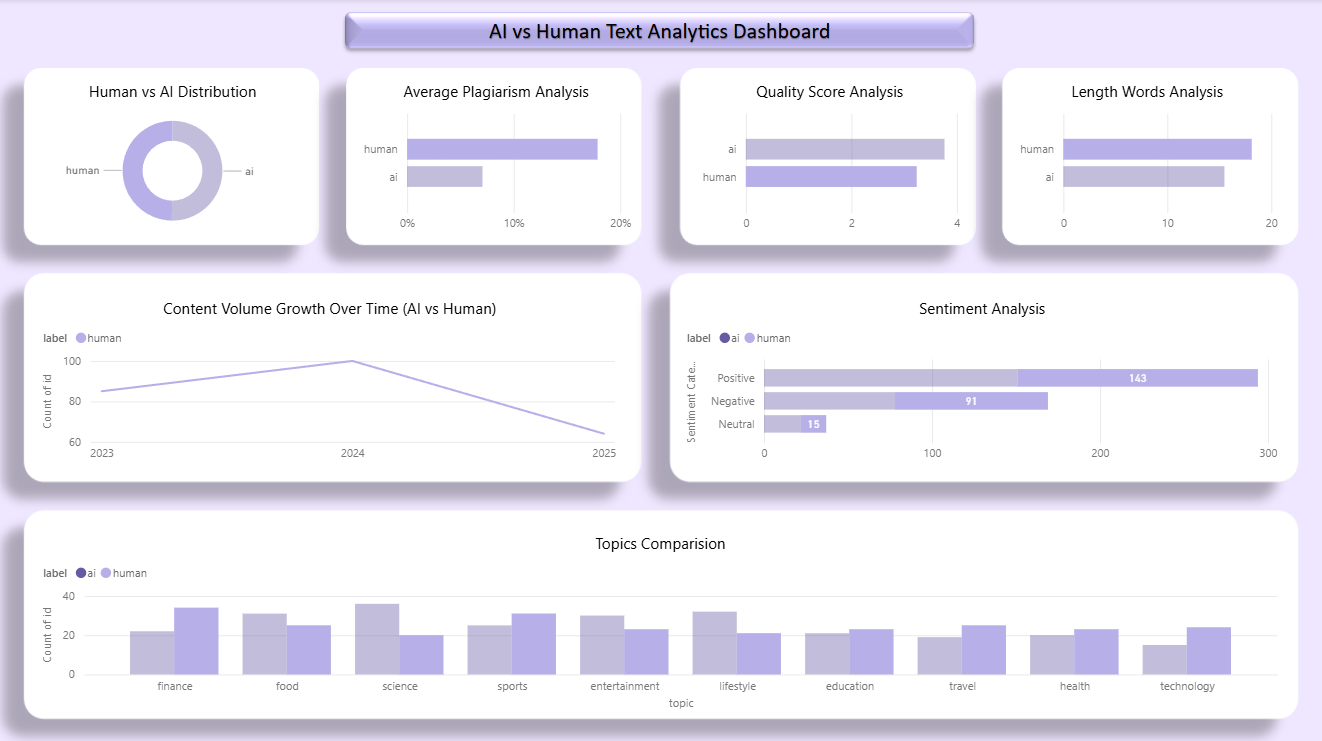

Layout of this report page (visuals, bound fields, positions):
{"tool":"powerbi","page":{"name":"Page 1","canvas":[1280,720],"ordinal":0},"visuals":[{"type":"donutChart","title":"Human vs AI Distribution ","fields":{"Category":["ai_vs_human_dataset_medium.label"],"Y":["CountNonNull(ai_vs_human_dataset_medium.id)"]},"box":[38.3,78.3,260,155],"z":0},{"type":"clusteredBarChart","title":"Quality Score Analysis","fields":{"Category":["ai_vs_human_dataset_medium.label"],"Y":["Avg(ai_vs_human_dataset_medium.quality_score)"]},"box":[671.7,78.3,261.7,155],"z":3},{"type":"barChart","title":"Average Plagiarism Analysis","fields":{"Category":["ai_vs_human_dataset_medium.label"],"Y":["Avg(ai_vs_human_dataset_medium.plagiarism_score)"]},"box":[345,78.3,271.7,155],"z":5},{"type":"clusteredColumnChart","title":"Topics Comparision","fields":{"Category":["ai_vs_human_dataset_medium.topic"],"Series":["ai_vs_human_dataset_medium.label"],"Y":["CountNonNull(ai_vs_human_dataset_medium.id)"]},"box":[38.3,515,1201.7,175],"z":6},{"type":"clusteredBarChart","title":"Length Words Analysis","fields":{"Category":["ai_vs_human_dataset_medium.label"],"Y":["Avg(ai_vs_human_dataset_medium.length_words)"]},"box":[978.3,78.3,261.7,155],"z":7},{"type":"barChart","title":"Sentiment Analysis","fields":{"Series":["ai_vs_human_dataset_medium.label"],"Y":["CountNonNull(ai_vs_human_dataset_medium.id)"],"Category":["ai_vs_human_dataset_medium.Sentiment Category"]},"box":[660,288.3,580,166.7],"z":8},{"type":"lineChart","title":"Content Volume Growth Over Time (AI vs Human)","fields":{"Y":["CountNonNull(ai_vs_human_dataset_medium.id)"],"Series":["ai_vs_human_dataset_medium.label"],"Category":["ai_vs_human_dataset_medium.timestamp.Variation.Date Hierarchy.Year"]},"box":[38.3,288.3,563.3,166.7],"z":9}]}

Visuals, with their boxes in screenshot pixels (x1, y1, x2, y2), scaled from the page's 1280x720 canvas onto the 1322x741 screenshot:
"Human vs AI Distribution " donutChart: {"x1": 40, "y1": 81, "x2": 308, "y2": 240}
"Quality Score Analysis" clusteredBarChart: {"x1": 694, "y1": 81, "x2": 964, "y2": 240}
"Average Plagiarism Analysis" barChart: {"x1": 356, "y1": 81, "x2": 637, "y2": 240}
"Topics Comparision" clusteredColumnChart: {"x1": 40, "y1": 530, "x2": 1281, "y2": 710}
"Length Words Analysis" clusteredBarChart: {"x1": 1010, "y1": 81, "x2": 1281, "y2": 240}
"Sentiment Analysis" barChart: {"x1": 682, "y1": 297, "x2": 1281, "y2": 468}
"Content Volume Growth Over Time (AI vs Human)" lineChart: {"x1": 40, "y1": 297, "x2": 621, "y2": 468}
